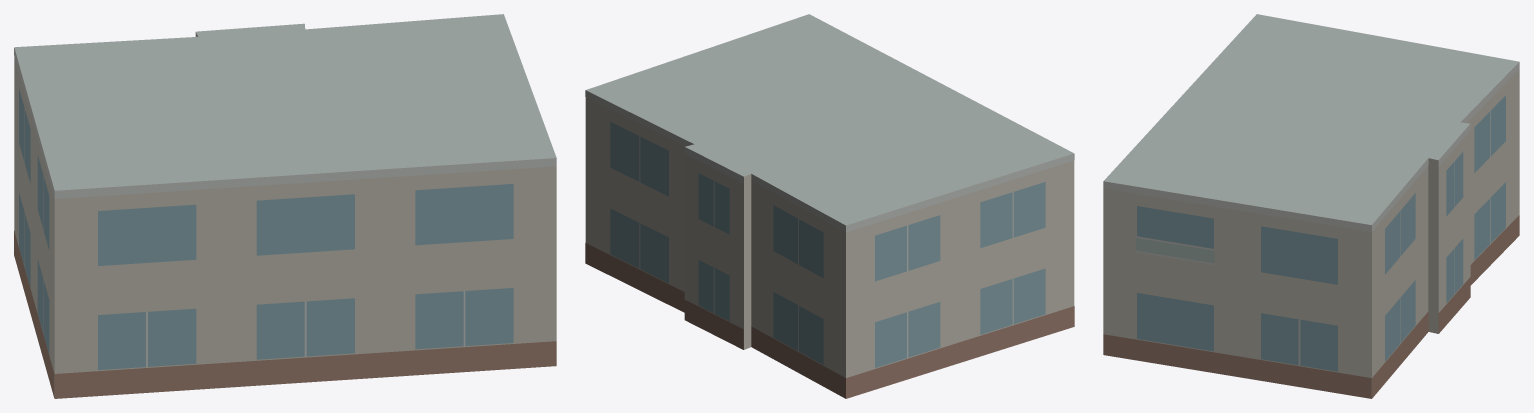
File: survey-upis-32874367.glb
The picture shows the model from 3 angles, left to right: view 1: azimuth 30°, elevation 25°; view 2: azimuth 150°, elevation 25°; view 3: azimuth 270°, elevation 25°; orthographic projection. The views are drawn at different scales.
Visible parts, largest first — view 1: survey-upis-32874367.tmp; view 2: survey-upis-32874367.tmp; view 3: survey-upis-32874367.tmp.
Part boxes in pixels (left/top/right/bottom): survey-upis-32874367.tmp: left=14, top=14, right=556, bottom=398; survey-upis-32874367.tmp: left=585, top=14, right=1074, bottom=398; survey-upis-32874367.tmp: left=1103, top=14, right=1519, bottom=398.
Bounding box in the file's own units: 15.91 × 6.1 × 13.25.
